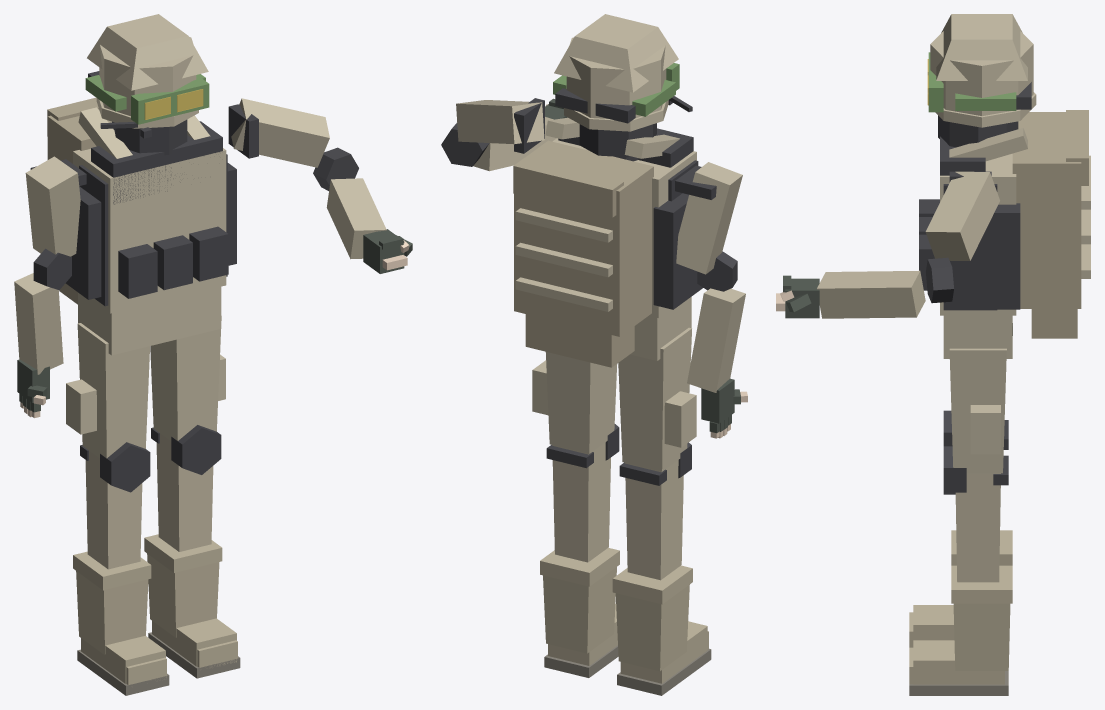
File: avatar-soldier.glb
3 renders of one model, left to right at view 1: azimuth 30°, elevation 25°; view 2: azimuth 150°, elevation 25°; view 3: azimuth 270°, elevation 25°, orthographic. The views are drawn at different scales.
Parts seen in each view (by area): view 1: AVT_S_Uniform_Torso, AVT_S_Uniform_Thigh_L, AVT_S_Uniform_Thigh_R, AVT_S_Uniform_Pelvis, AVT_S_Vest, AVT_S_Uniform_Shin_R, AVT_S_Uniform_Shin_L, AVT_S_Helmet_Cap, AVT_S_Uniform_UpperArm_L, AVT_S_Boots_Shaft_L, AVT_S_Boots_Shaft_R, AVT_S_Uniform_UpperArm_R (+30 smaller); view 2: AVT_S_Vest_Pack_Body, AVT_S_Uniform_Thigh_L, AVT_S_Uniform_Thigh_R, AVT_S_Uniform_Shin_L, AVT_S_Uniform_Shin_R, AVT_S_Helmet_Cap, AVT_S_Boots_Shaft_L, AVT_S_Boots_Shaft_R, AVT_S_Uniform_UpperArm_L, AVT_S_Uniform_Forearm_L, AVT_S_Vest_Pack_Flap, AVT_S_Vest (+29 smaller); view 3: AVT_S_Vest_Pack_Body, AVT_S_Vest_Side_R, AVT_S_Uniform_Thigh_R, AVT_S_Uniform_Forearm_R, AVT_S_Uniform_Shin_R, AVT_S_Uniform_UpperArm_R, AVT_S_Helmet_Cap, AVT_S_Boots_Shaft_R, AVT_S_Helmet_Shell, AVT_S_Boots_Foot_R, AVT_S_Uniform_Pelvis, AVT_S_Vest (+17 smaller).
Part boxes in pixels (box(x1,y1,x2,y2)): AVT_S_Uniform_Torso: box(73, 148, 226, 313); AVT_S_Uniform_Thigh_L: box(77, 323, 149, 458); AVT_S_Uniform_Thigh_R: box(150, 316, 221, 440); AVT_S_Uniform_Pelvis: box(78, 286, 221, 355); AVT_S_Vest: box(118, 226, 228, 298); AVT_S_Uniform_Shin_R: box(156, 433, 213, 551); AVT_S_Uniform_Shin_L: box(85, 450, 142, 569); AVT_S_Helmet_Cap: box(87, 14, 208, 90); AVT_S_Uniform_UpperArm_L: box(25, 156, 80, 256); AVT_S_Boots_Shaft_L: box(76, 571, 148, 654); AVT_S_Boots_Shaft_R: box(147, 553, 219, 637); AVT_S_Uniform_UpperArm_R: box(231, 98, 329, 167); AVT_S_Vest_Pack_Body: box(514, 140, 653, 336); AVT_S_Uniform_Thigh_L: box(618, 327, 691, 471); AVT_S_Uniform_Thigh_R: box(545, 352, 617, 453); AVT_S_Uniform_Shin_L: box(625, 460, 683, 580); AVT_S_Uniform_Shin_R: box(552, 442, 610, 562); AVT_S_Helmet_Cap: box(554, 14, 678, 92); AVT_S_Boots_Shaft_L: box(615, 584, 689, 671); AVT_S_Boots_Shaft_R: box(543, 567, 616, 653); AVT_S_Uniform_UpperArm_L: box(676, 162, 742, 274); AVT_S_Uniform_Forearm_L: box(687, 288, 745, 392); AVT_S_Vest_Pack_Flap: box(513, 157, 623, 217); AVT_S_Vest: box(515, 208, 612, 311); AVT_S_Vest_Pack_Body: box(1012, 112, 1081, 308); AVT_S_Vest_Side_R: box(951, 203, 1020, 309); AVT_S_Uniform_Thigh_R: box(949, 348, 1006, 473); AVT_S_Uniform_Forearm_R: box(817, 270, 925, 318); AVT_S_Uniform_Shin_R: box(955, 473, 1000, 582); AVT_S_Uniform_UpperArm_R: box(925, 171, 999, 260); AVT_S_Helmet_Cap: box(936, 14, 1027, 80); AVT_S_Boots_Shaft_R: box(953, 603, 1010, 670); AVT_S_Helmet_Shell: box(930, 31, 1033, 115); AVT_S_Boots_Foot_R: box(913, 640, 1004, 684); AVT_S_Uniform_Pelvis: box(943, 315, 1012, 358); AVT_S_Vest: box(919, 155, 1090, 290).
Size of the model in its own units: 0.9649 by 1.85 by 0.824.
